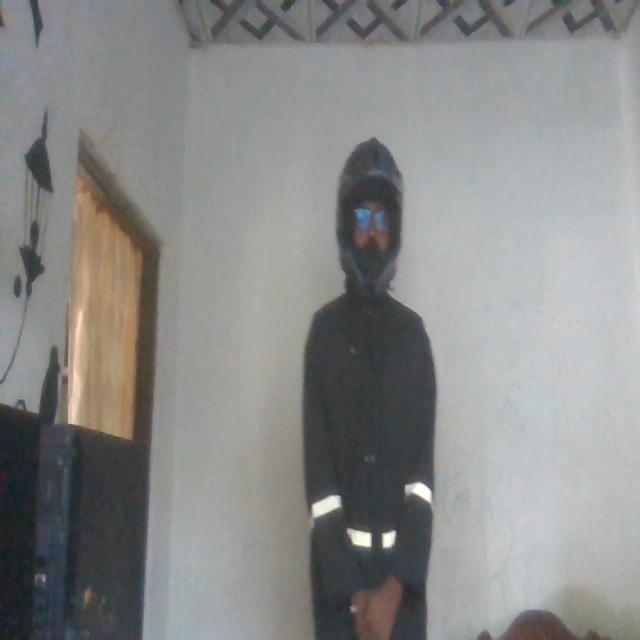Helmet_Wearer: (320, 140, 406, 294)
Jacket_Wearer: (307, 295, 432, 640)
Person: (303, 135, 433, 640)
